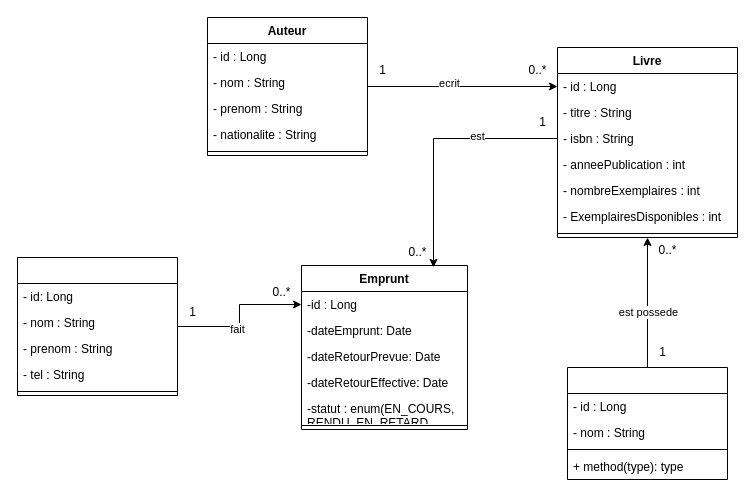
Some shapes in this 755 by 500 pixel diagram are drawn without their labels. The box of each missing label's shape, as (x1, y1, x2, y2) in pixels:
Categorie: (566, 366, 728, 480)
Emprunteur: (16, 256, 178, 396)
